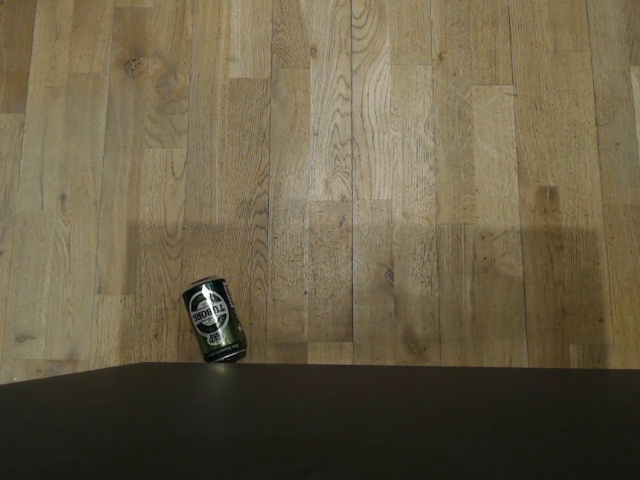beer: (174, 266, 257, 371)
